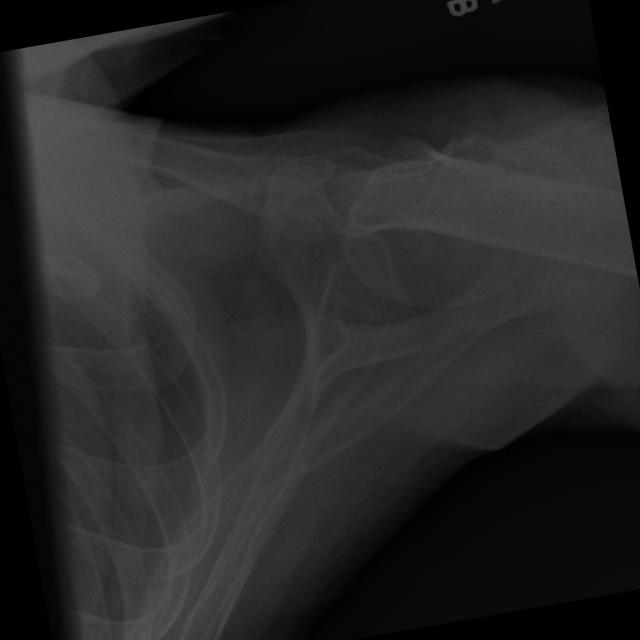shoulder fracture: (262, 107, 496, 271)
